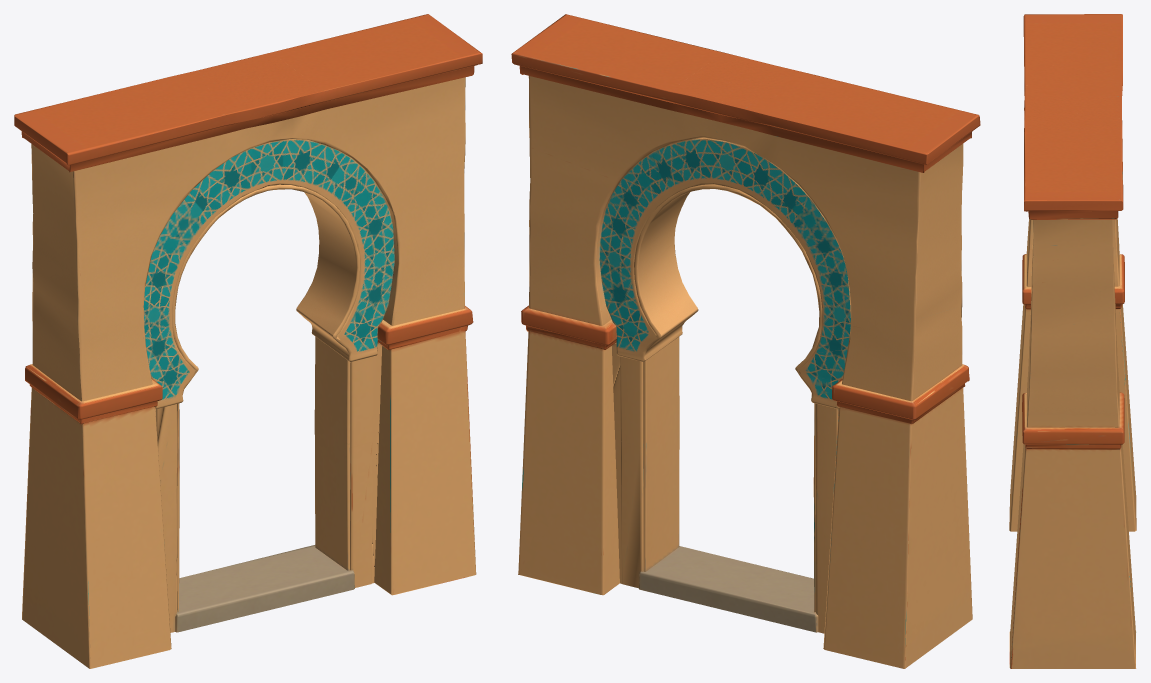
File: gate_portal.glb
3 views of the same model, side by side, from view 1: azimuth 30°, elevation 25°; view 2: azimuth 150°, elevation 25°; view 3: azimuth 270°, elevation 25° (orthographic). The views are drawn at different scales.
Bounding box in the file's own units: 0.8477 × 1 × 0.2437.
Materials: 1 (1 with a texture image).
